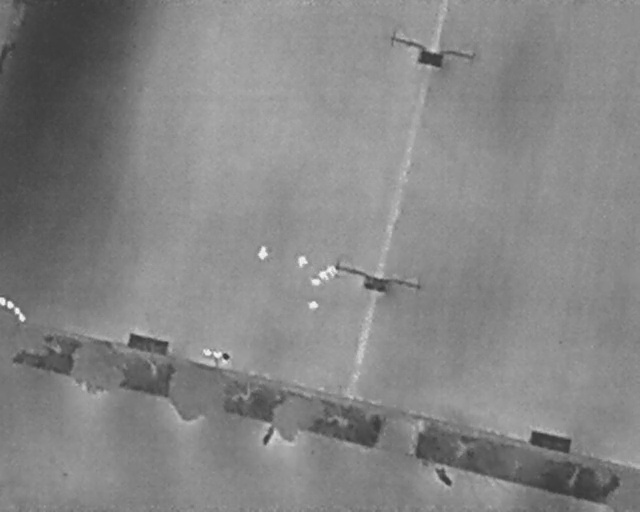Person: (324, 262, 340, 279), (316, 268, 332, 285), (297, 255, 308, 268), (258, 246, 268, 260), (308, 301, 319, 311), (310, 279, 321, 287)
